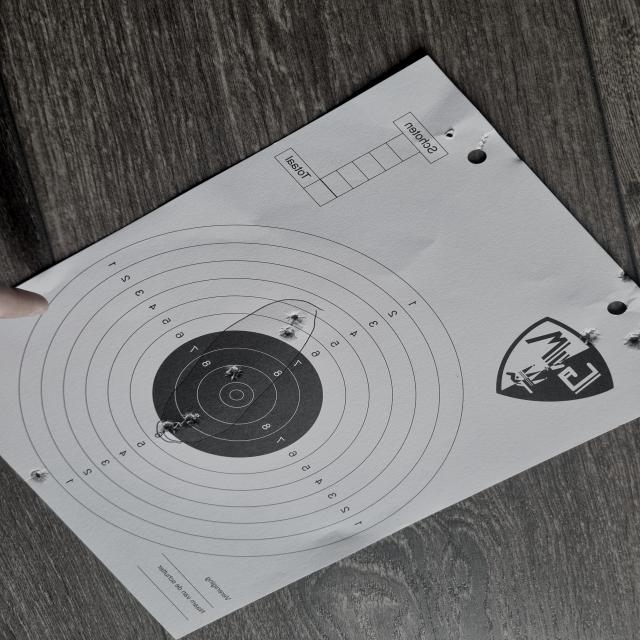0: (579, 328, 601, 345), (28, 469, 50, 483), (623, 333, 640, 351), (618, 272, 631, 282)
6: (285, 314, 306, 326), (280, 327, 298, 339)
7: (159, 421, 178, 433)
8: (181, 413, 202, 426)
9: (224, 364, 242, 381)
Target: (17, 223, 463, 558)
black_contour: (152, 331, 324, 459)
